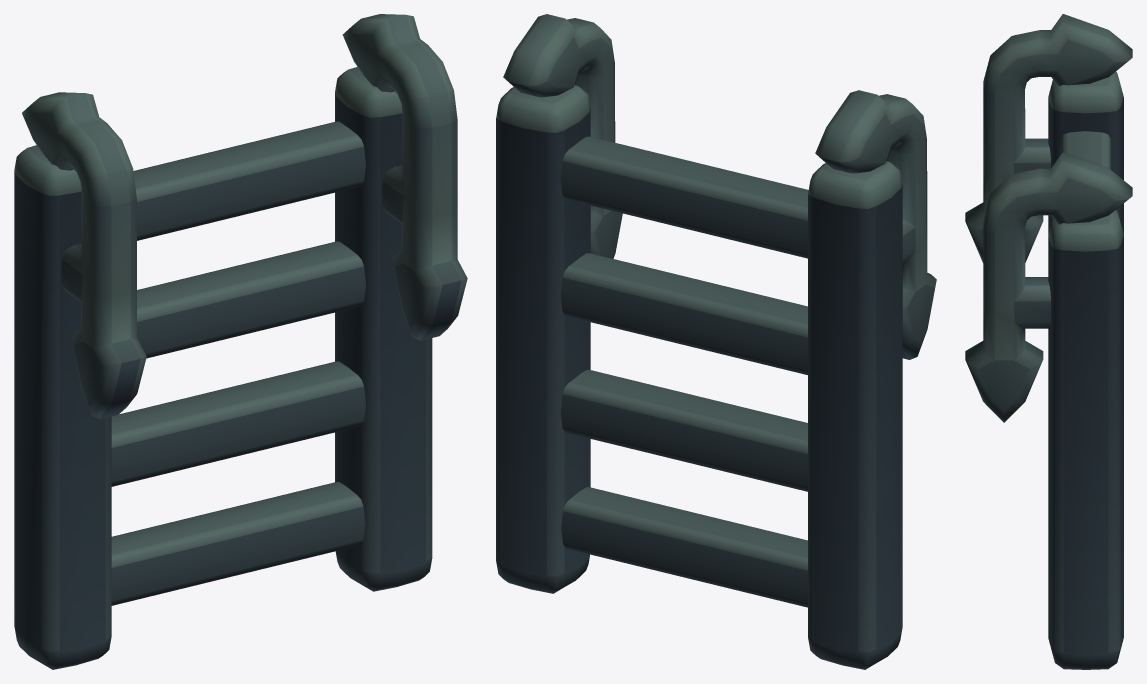
Rendered from Metal_Ladder_Top.fbx.
3 renders of one model, left to right at view 1: azimuth 30°, elevation 25°; view 2: azimuth 150°, elevation 25°; view 3: azimuth 270°, elevation 25°, orthographic. The views are drawn at different scales.
Parts seen in each view (by area): view 1: Metal_Ladder_Top_LOD0; view 2: Metal_Ladder_Top_LOD0; view 3: Metal_Ladder_Top_LOD0.
Part boxes in pixels (x1,y1,x2,y2): Metal_Ladder_Top_LOD0: (14,14,467,669); Metal_Ladder_Top_LOD0: (496,14,936,669); Metal_Ladder_Top_LOD0: (965,14,1132,669).
Size of what is drawn, in the model's own units: 0.8613 by 1.19 by 0.3586.
